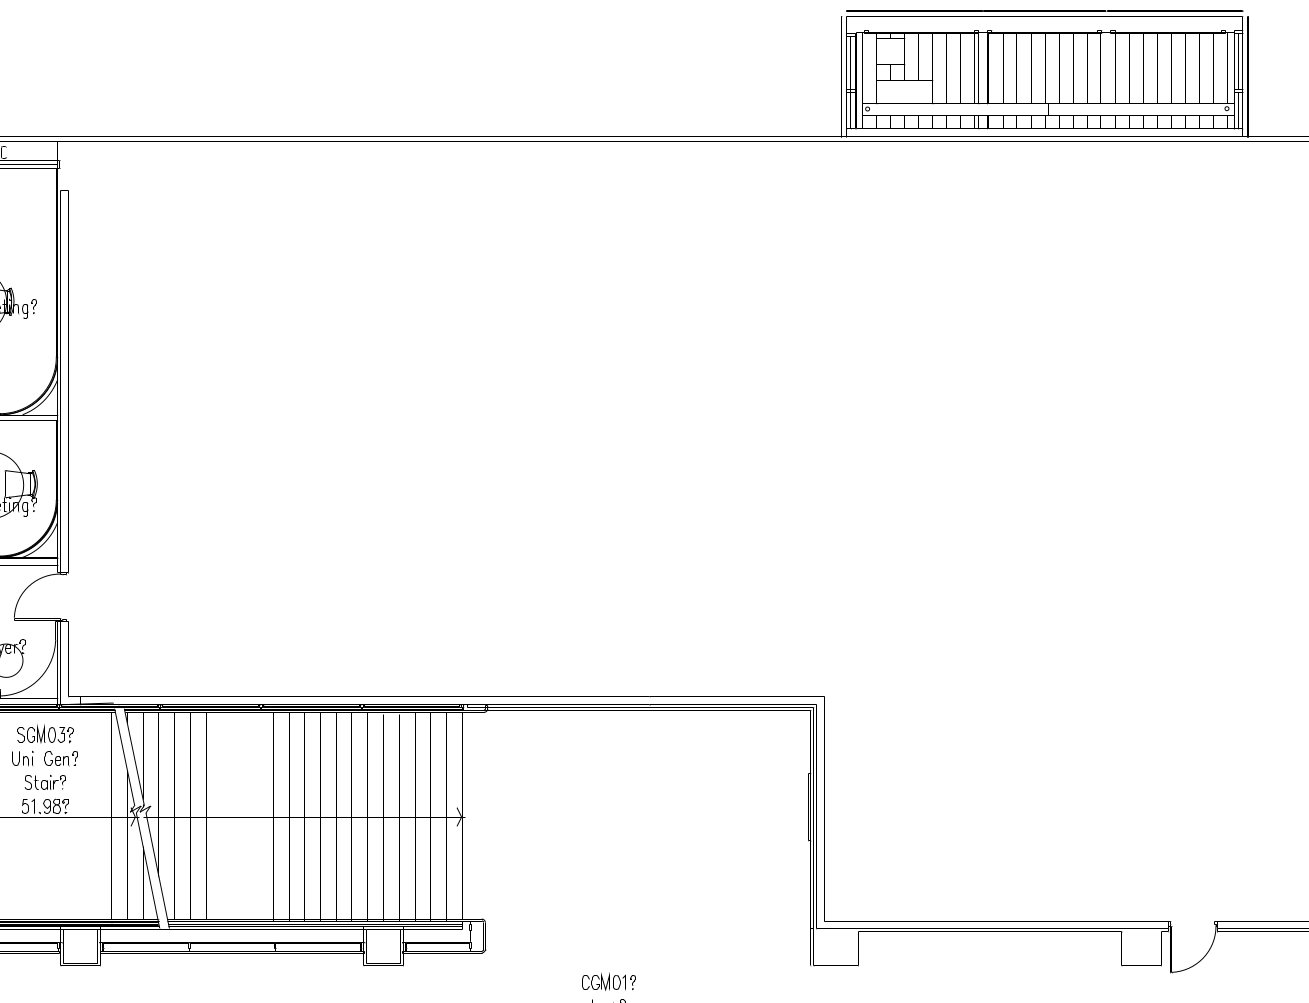door: (1, 570, 71, 629), (1169, 919, 1226, 979)
